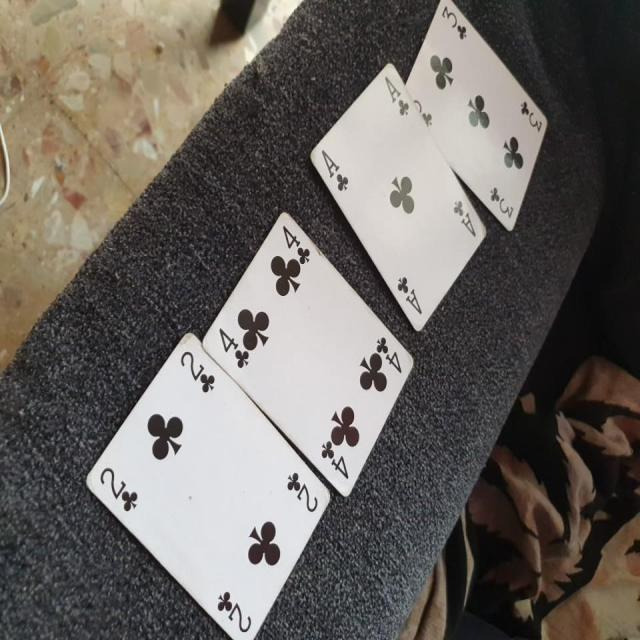2 Trefoils: (82, 331, 330, 640)
3 Trefoils: (405, 1, 550, 233)
4 Trefoils: (200, 212, 417, 498)
A Trefoils: (308, 61, 489, 330)
